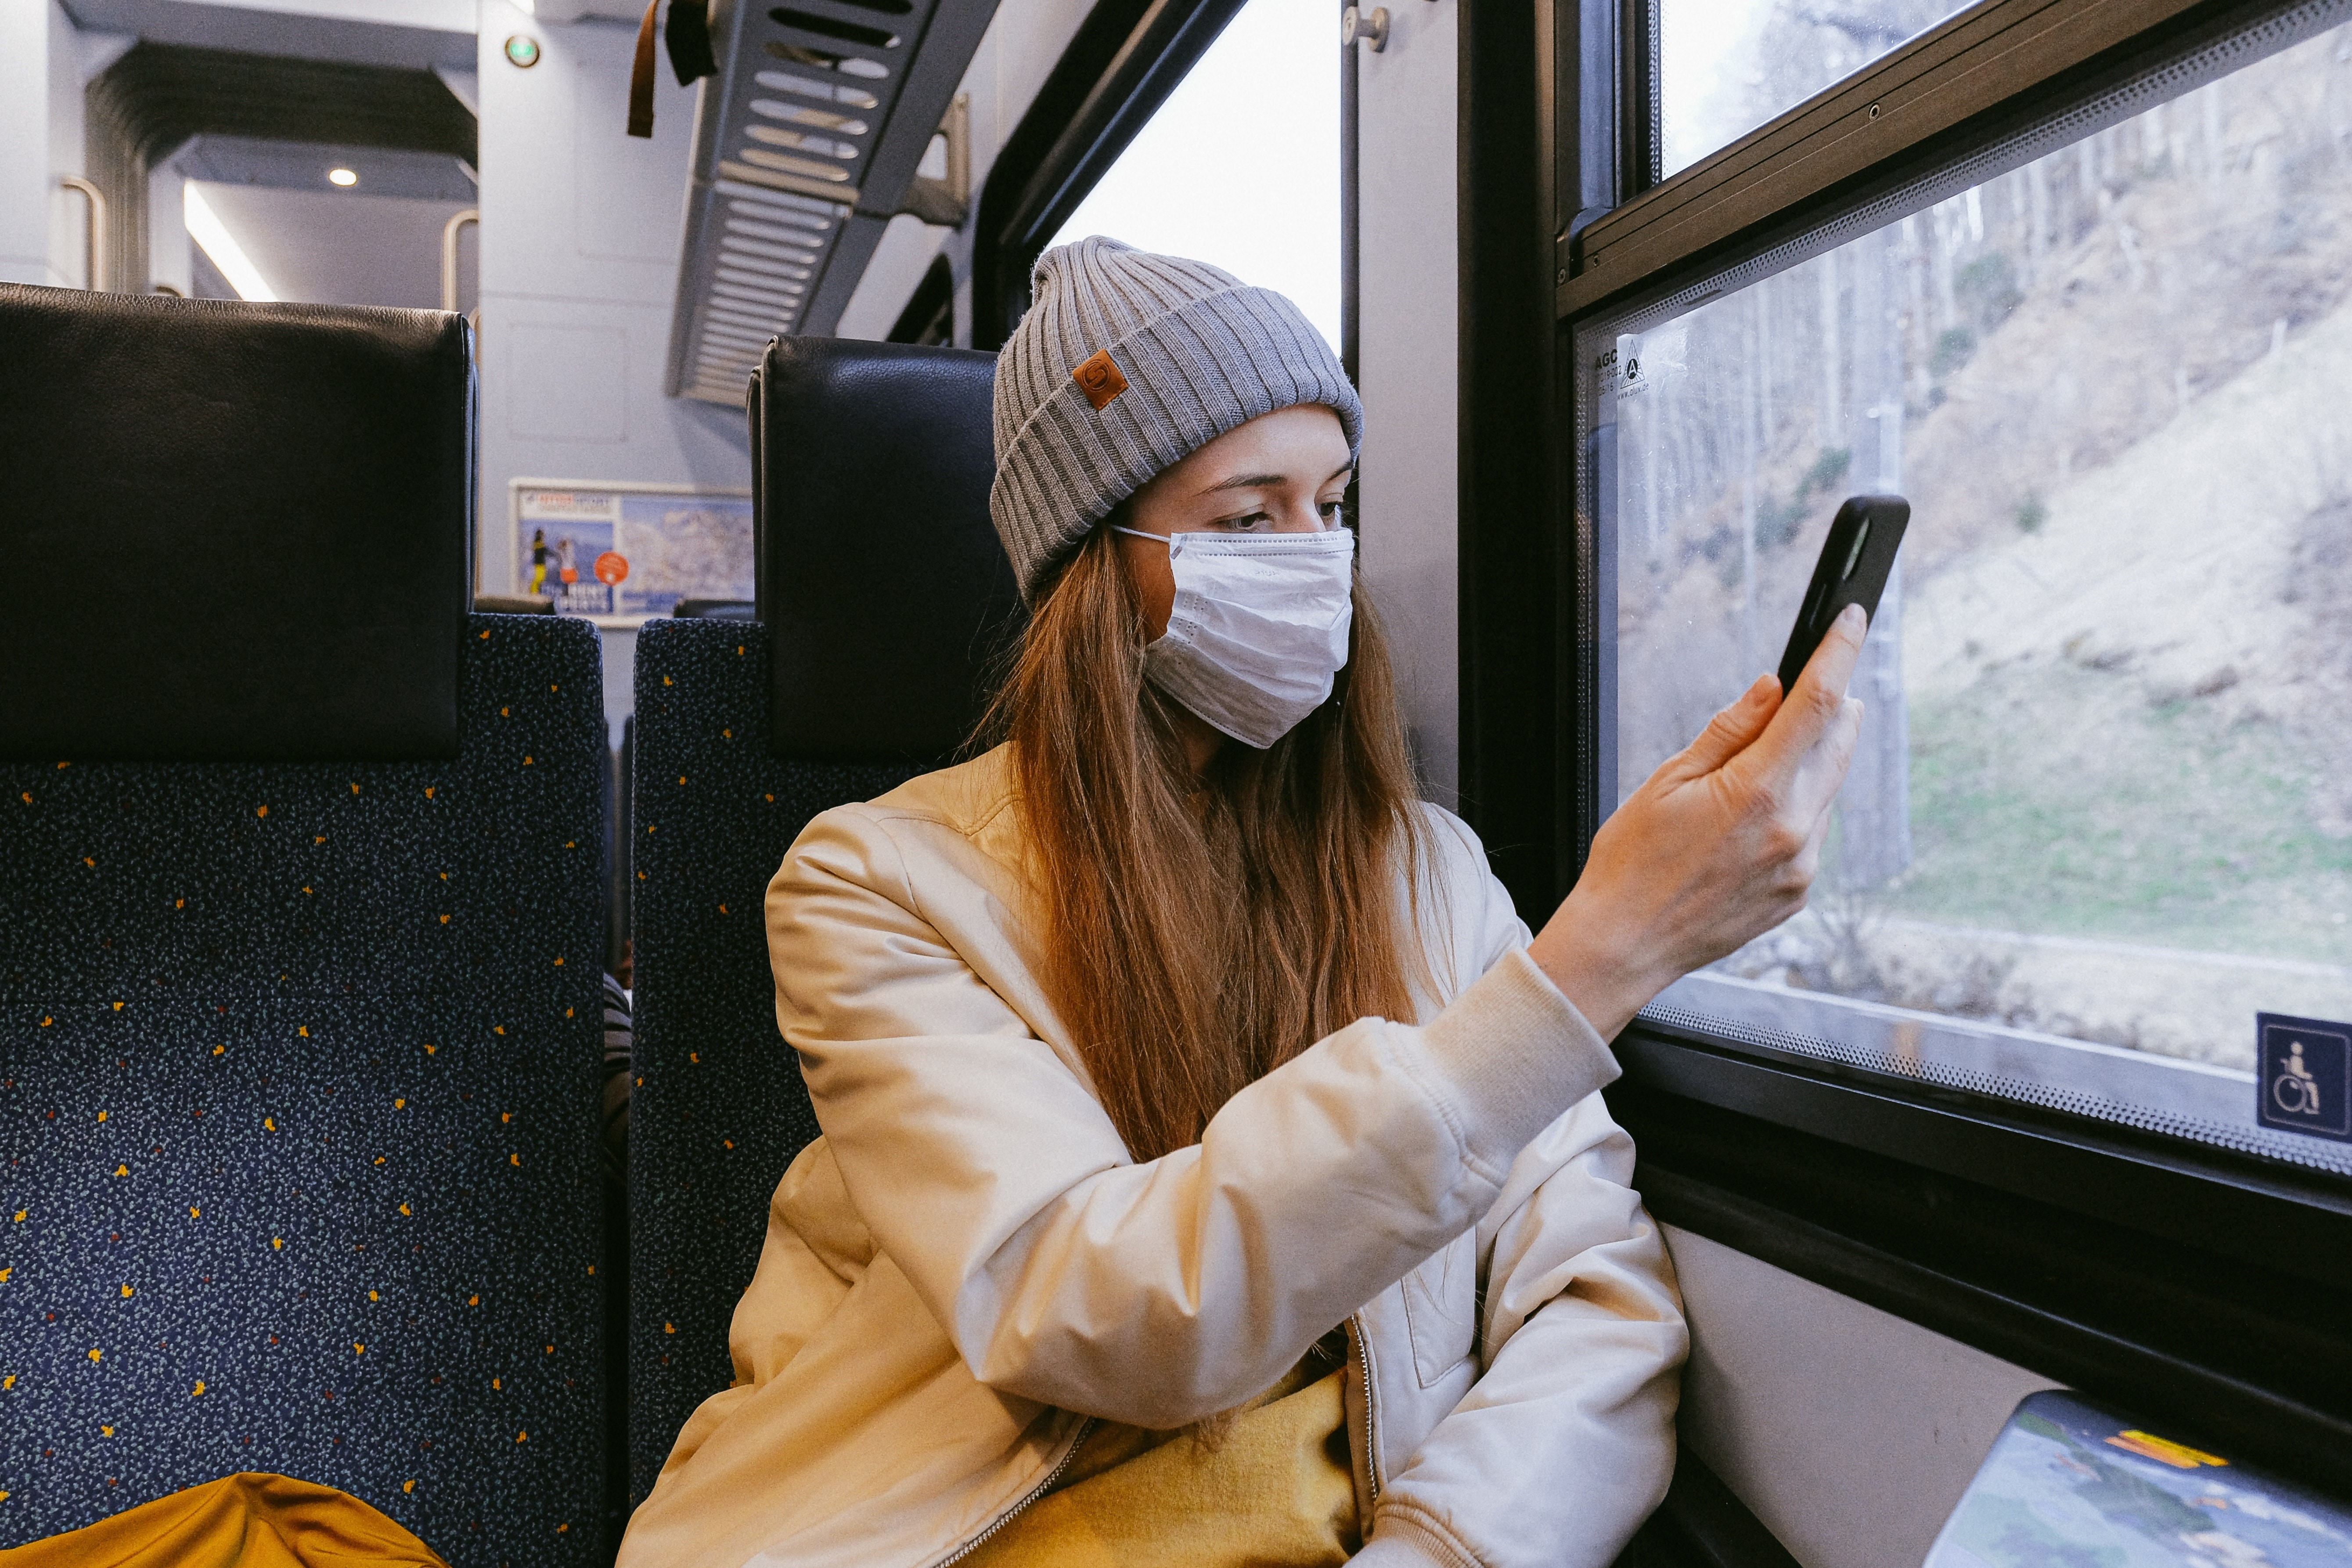face_with_mask: (996, 228, 1378, 750)
